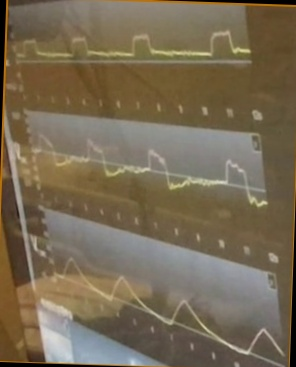Accumulation Flow: (35, 132, 266, 210)
Volume: (56, 255, 284, 358)
